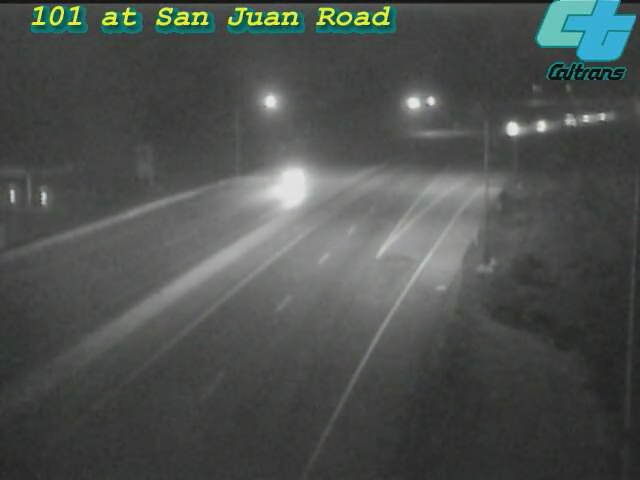vehicle: (250, 145, 330, 225), (578, 92, 628, 142), (563, 93, 613, 143), (542, 94, 592, 144), (521, 99, 571, 149), (487, 104, 537, 154)
